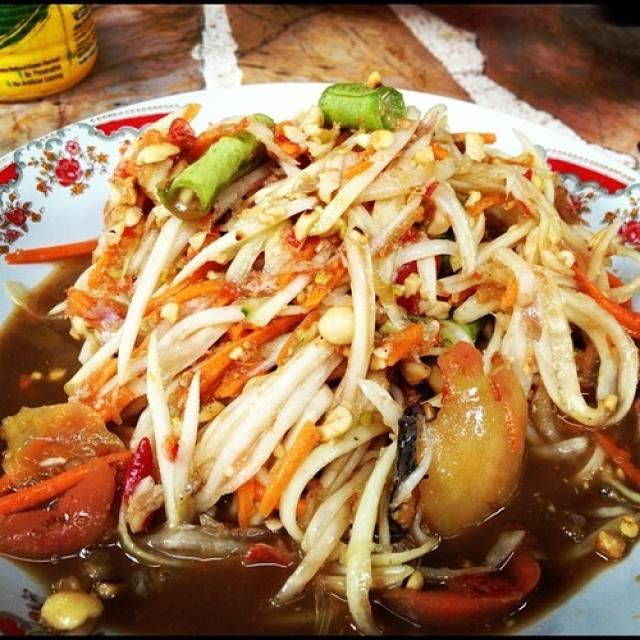蔬菜料理: (37, 82, 630, 610)
